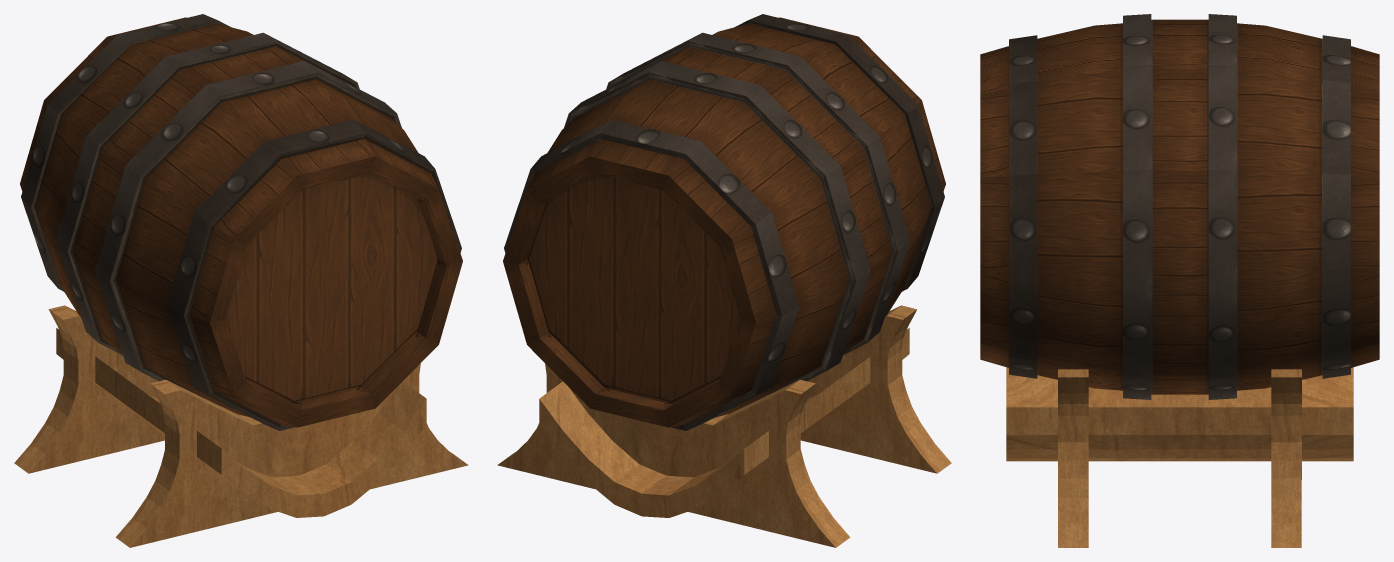
The model's file is oak barrel2.fbx.
3 views of the same model, side by side, from view 1: azimuth 30°, elevation 25°; view 2: azimuth 150°, elevation 25°; view 3: azimuth 270°, elevation 25° (orthographic). The views are drawn at different scales.
Visible parts, largest first — view 1: Object001; view 2: Object001; view 3: Object001.
Part boxes in pixels (x1,y1,x2,y2): Object001: (14,14,468,547); Object001: (497,14,951,547); Object001: (980,14,1379,547).
Size of the model in its own units: 67.51 by 76.37 by 65.54.
